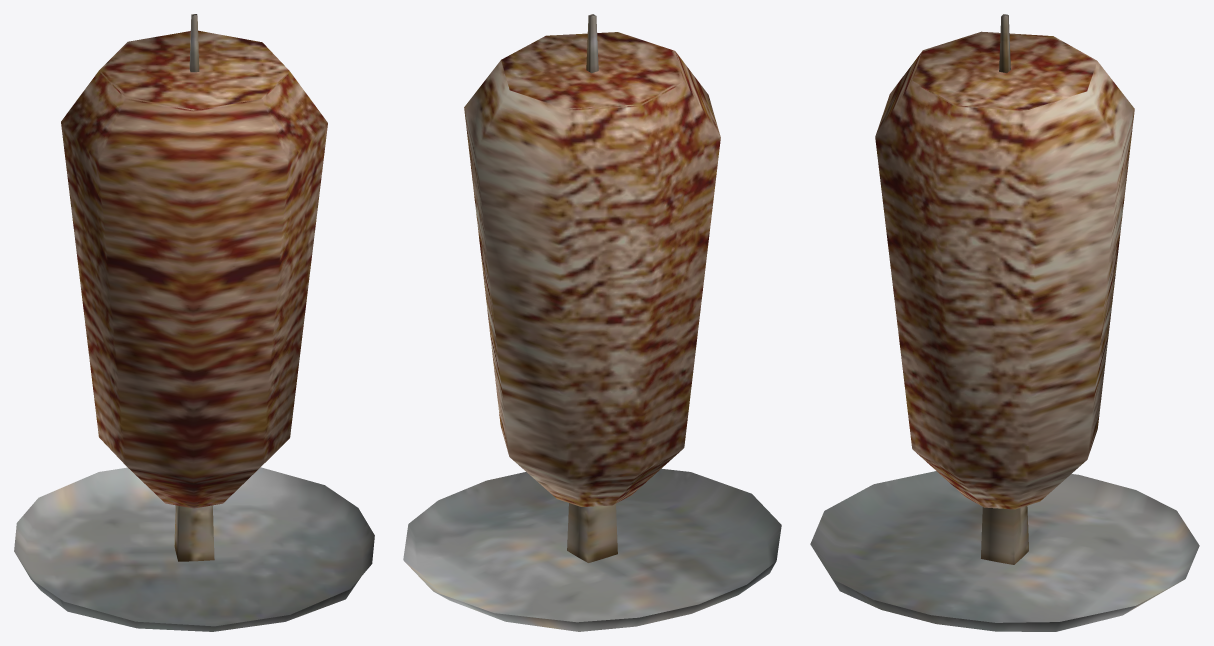
File: lowpoly_shawarma_skewer_psx.glb
3 views of the same model, side by side, from view 1: azimuth 30°, elevation 25°; view 2: azimuth 150°, elevation 25°; view 3: azimuth 270°, elevation 25° (orthographic).
Parts seen in each view (by area): view 1: Metal; view 2: Metal; view 3: Metal.
Boxes of the visible parts, <box> form: Metal: <box>14,14,374,631</box>; Metal: <box>403,14,781,631</box>; Metal: <box>810,14,1199,631</box>.
Size of the model in its own units: 0.335 by 0.5476 by 0.3537.
Materials: 1 (1 with a texture image).
